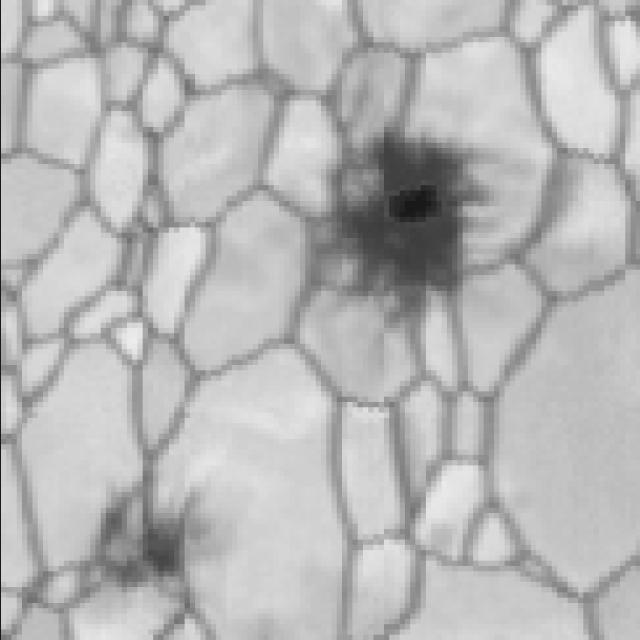good_void: (273, 84, 517, 341), (77, 478, 232, 614)
